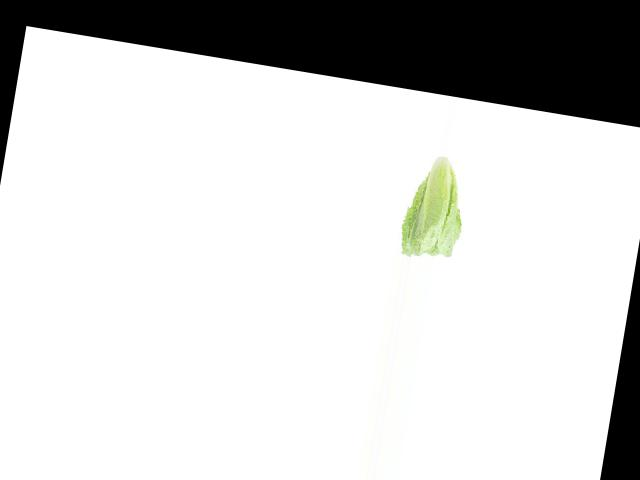lettuce: (394, 152, 479, 265)
